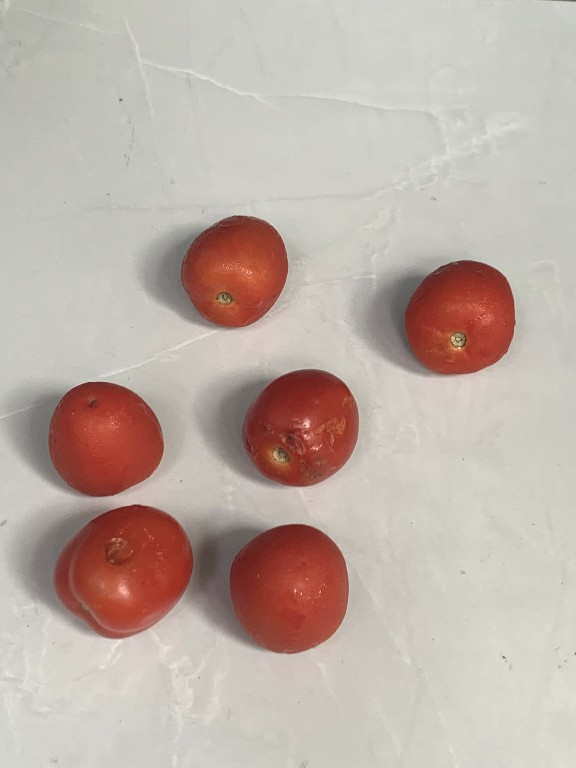NG: (52, 502, 199, 647), (241, 364, 369, 490)
OK: (391, 251, 517, 384), (42, 369, 172, 497), (225, 537, 360, 655), (176, 210, 293, 344)
